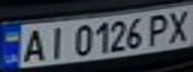0: (69, 21, 93, 56)
1: (90, 19, 112, 55)
2: (109, 17, 130, 53)
6: (124, 15, 151, 51)
A: (15, 26, 51, 63)
I: (42, 24, 69, 60)
P: (142, 11, 175, 47)
X: (160, 7, 193, 44)
